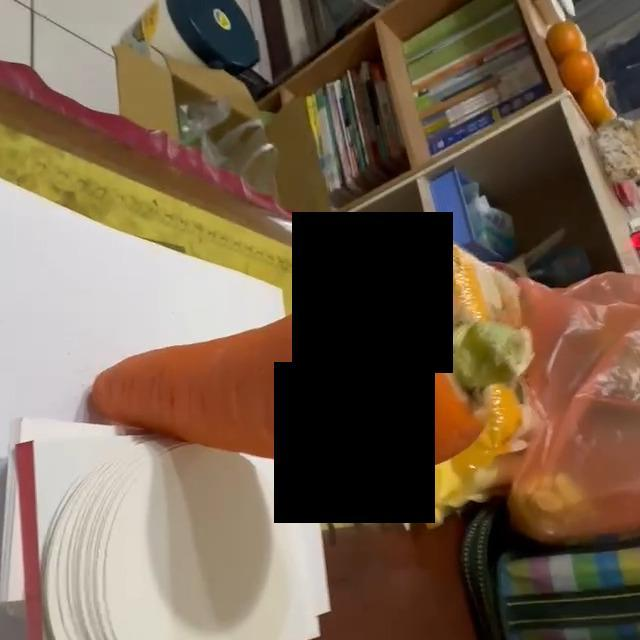carrot: (87, 280, 537, 470)
